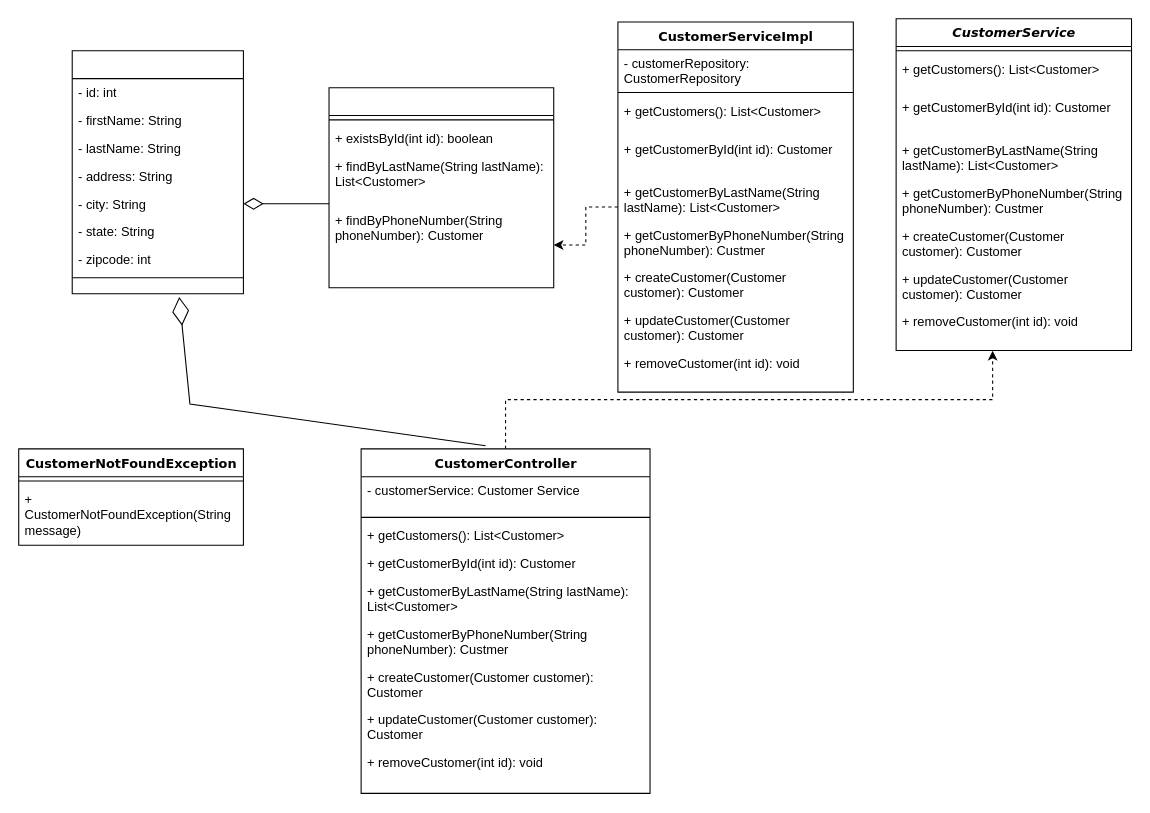
This 1150x813 diagram has some shape labels left out. Here are the shapes that lost their labels. From the top down, the box of each, then its label:
(71, 50, 243, 294): Customer
(328, 87, 554, 288): CustomerRepository
